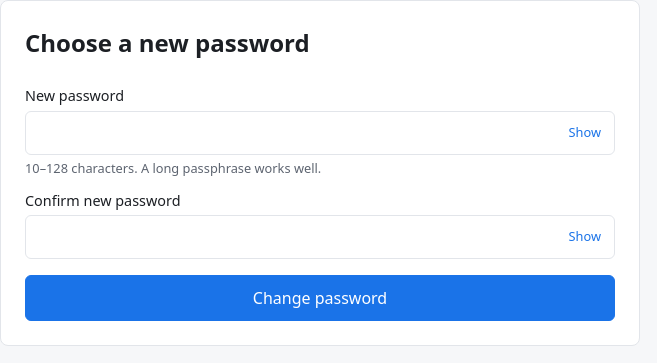
Test: ResetPasswordPage › changes the password with the token from the fragment
Type "brand new passphrase" into the password field labelled "New password".
click(320, 133); type("brand new passphrase")  # box [25,111,615,155]
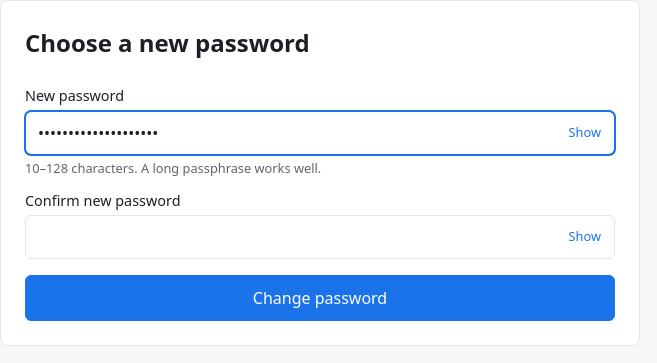
Type "brand new passphrase" into the password field labelled "Confirm new password".
click(320, 237); type("brand new passphrase")  # box [25,215,615,259]
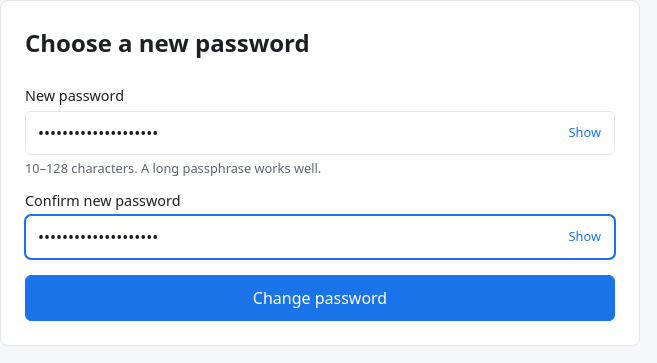
Click the button "Change password".
click(320, 298)  # box [25,275,615,321]
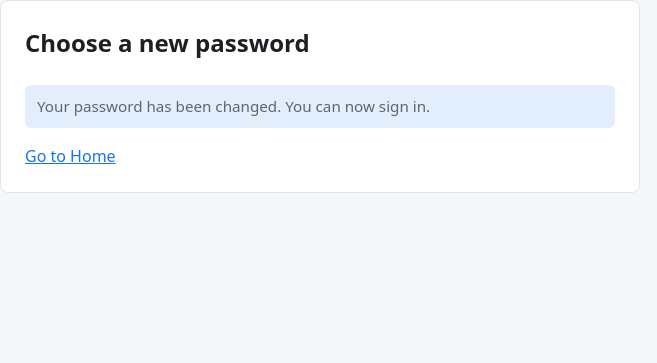
Now the message reads "Your password has been changed. You can now sign in.", box [37,96,430,116]
